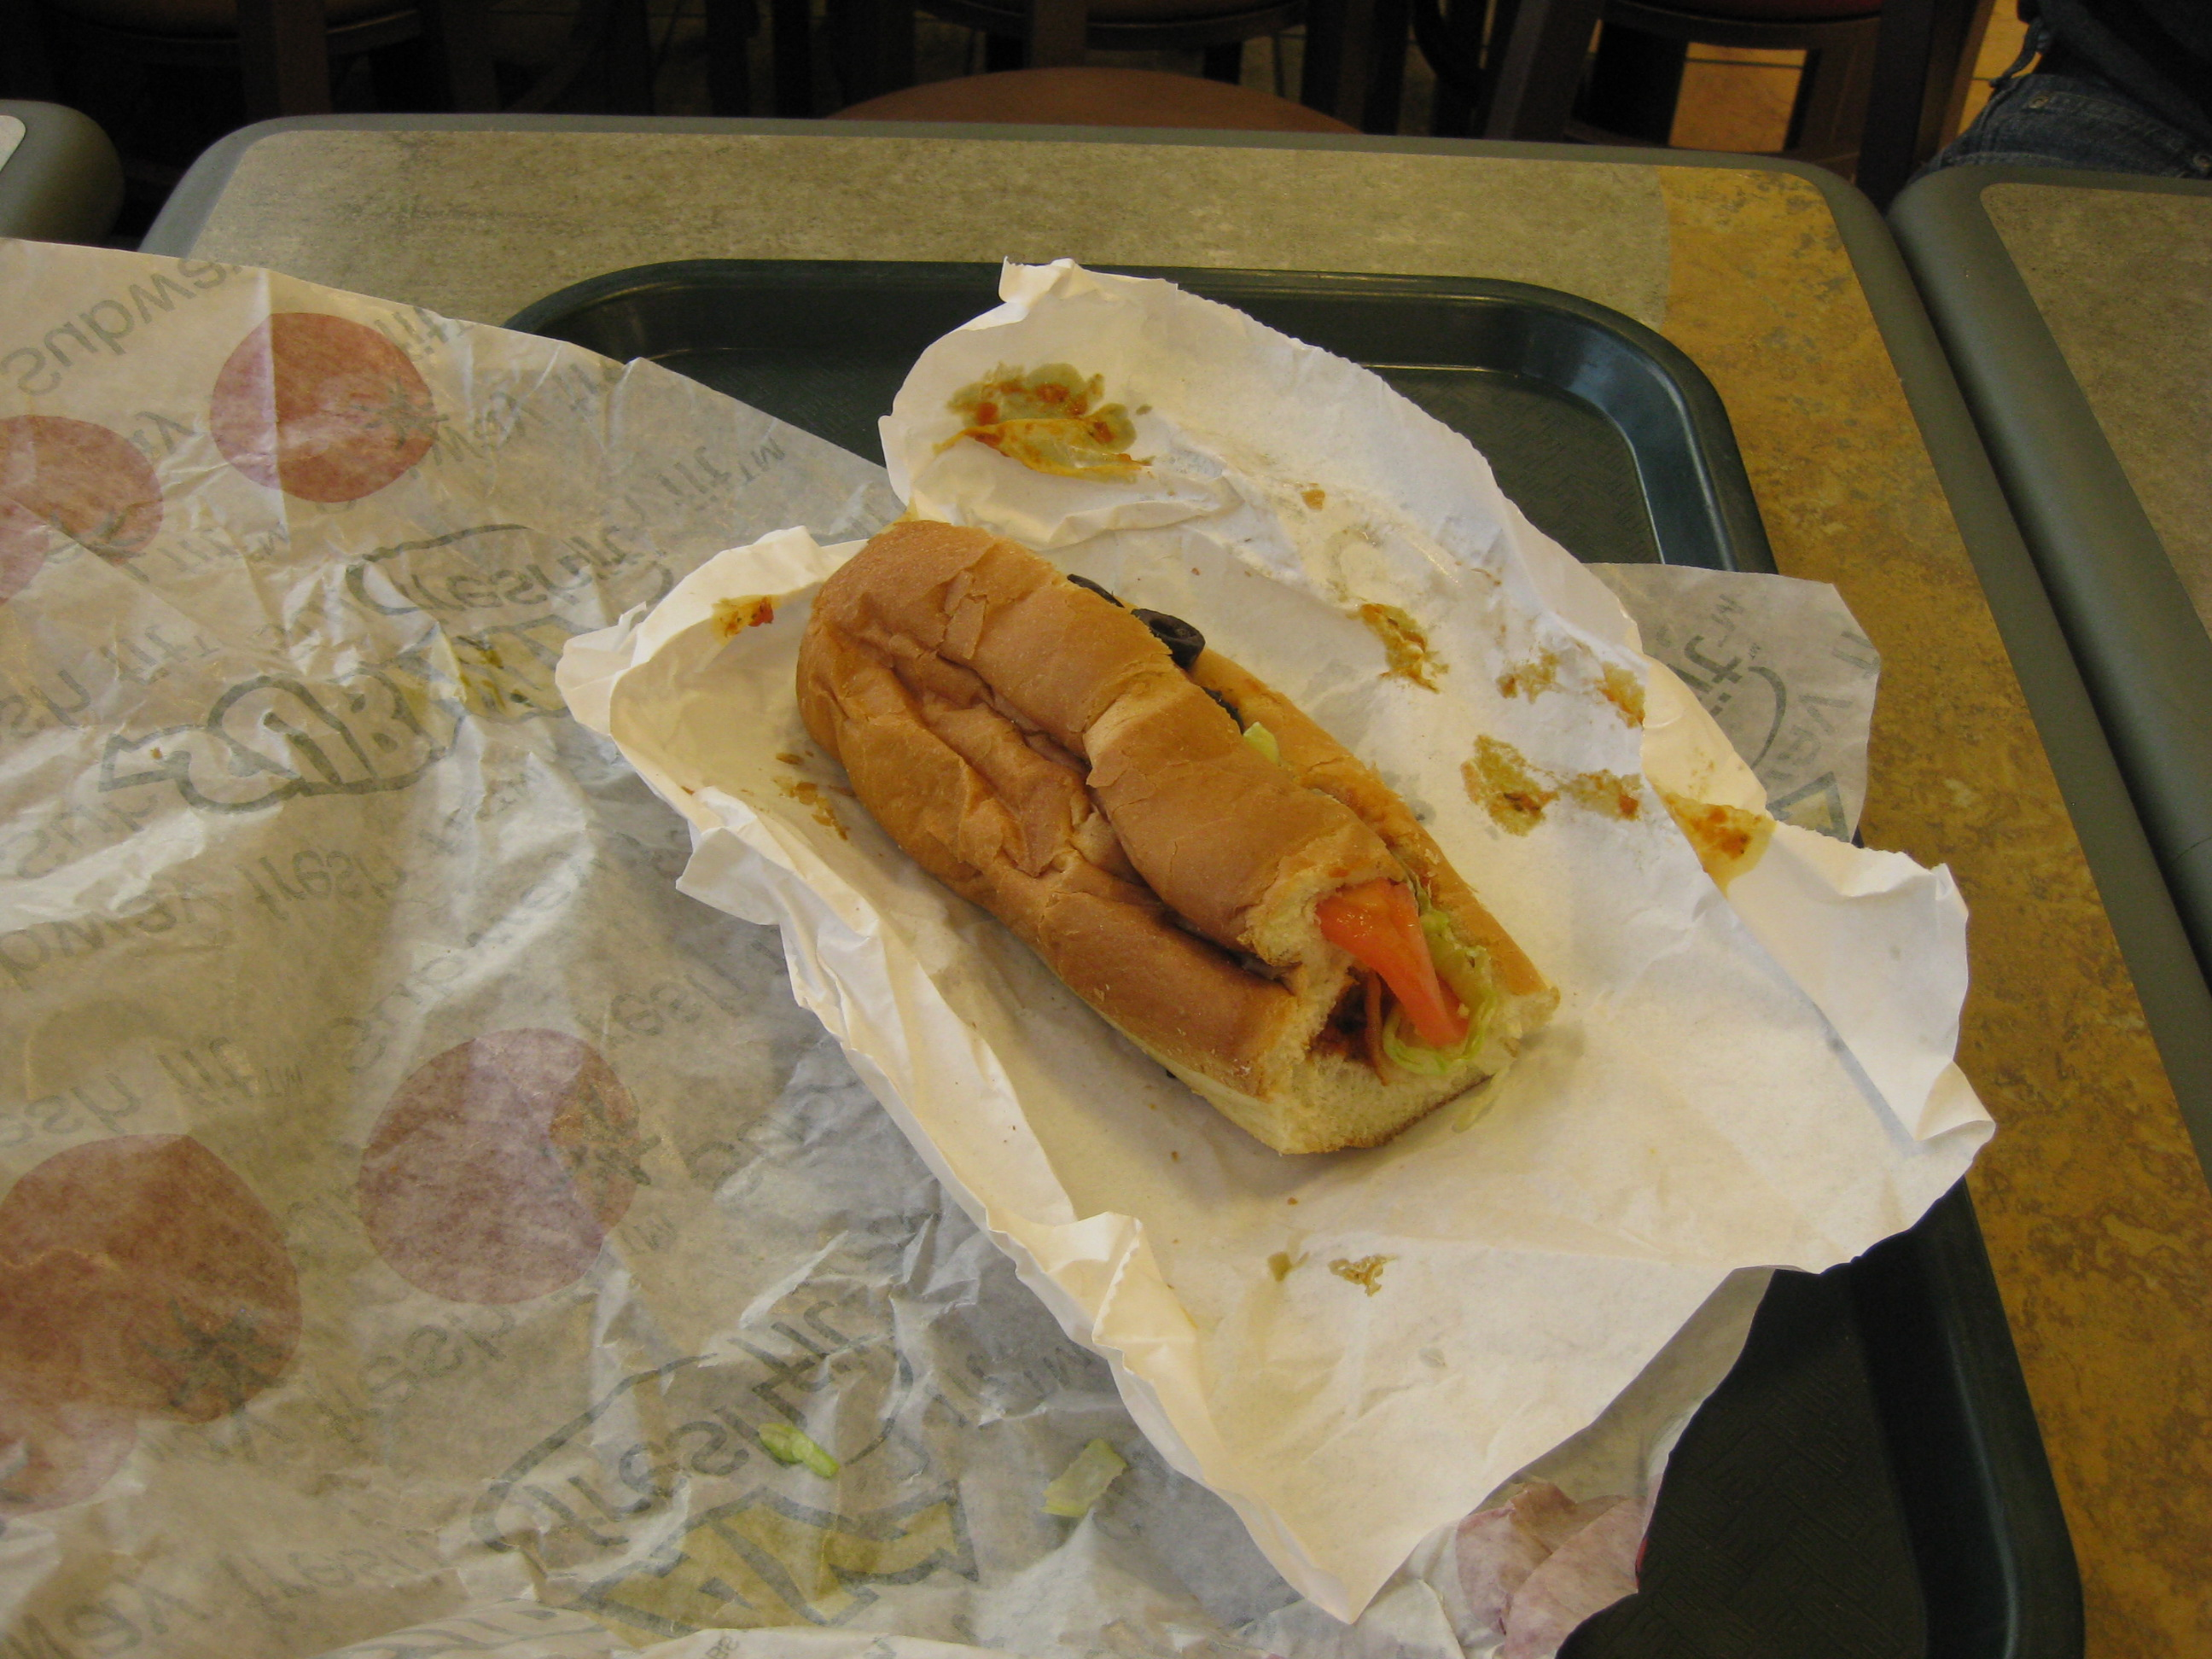sub: (743, 492, 1607, 1173)
